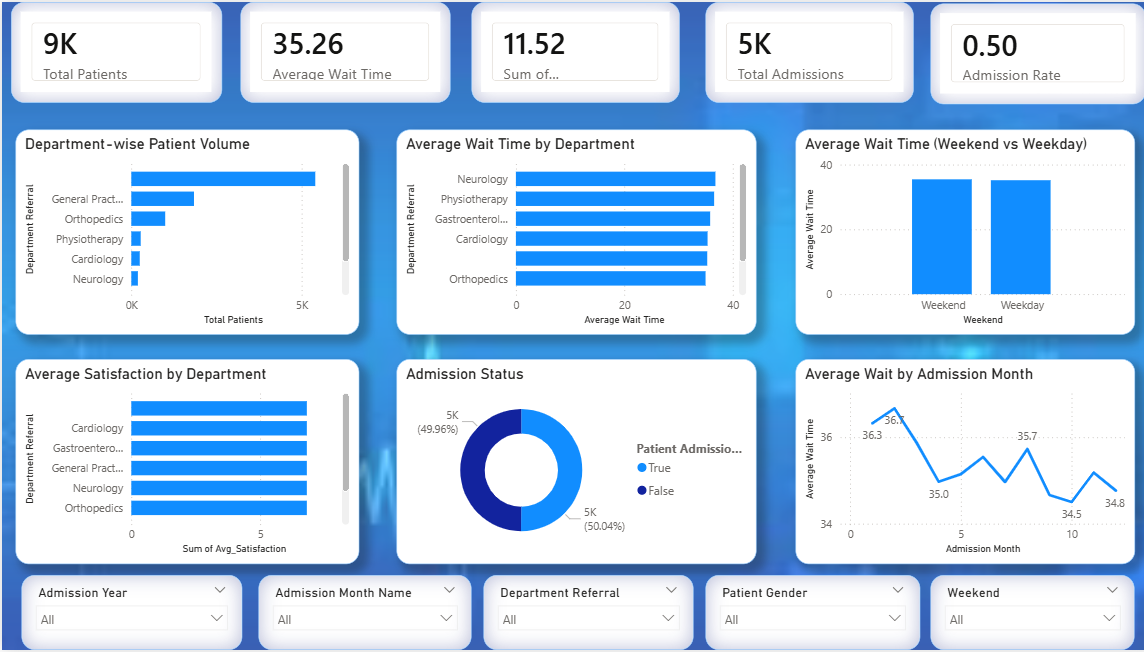

The dashboard page shown, as its layout file describes it:
{"tool":"powerbi","page":{"name":"Hospital Operations Dashboard","canvas":[1280,720],"ordinal":2},"visuals":[{"type":"cardVisual","fields":{"Data":["healthcare_data.Total Patients"]},"box":[9.7,0,234.8,111.7],"z":0},{"type":"cardVisual","fields":{"Data":["healthcare_data.Average Wait Time"]},"box":[265.6,0,233.2,111.7],"z":1000},{"type":"cardVisual","fields":{"Data":["Sum(vw_hospital_dashboard.Avg_Satisfaction)"]},"box":[521.4,0,231.5,111.7],"z":2000},{"type":"cardVisual","fields":{"Data":["healthcare_data.Total Admissions"]},"box":[782.1,0,231.5,111.7],"z":3000},{"type":"cardVisual","fields":{"Data":["healthcare_data.Admission Rate"]},"box":[1031.4,1.6,239.6,111.7],"z":4000},{"type":"clusteredBarChart","title":"Department-wise Patient Volume","fields":{"Category":["healthcare_data.Department Referral"],"Y":["healthcare_data.Total Patients"]},"box":[14.6,142.5,382.1,228.3],"z":5000},{"type":"clusteredBarChart","title":"Average Wait Time by Department","fields":{"Category":["healthcare_data.Department Referral"],"Y":["healthcare_data.Average Wait Time"]},"box":[438.8,142.5,399.9,228.3],"z":6000},{"type":"clusteredColumnChart","title":"Average Wait Time (Weekend vs Weekday)","fields":{"Category":["healthcare_data.Weekend"],"Y":["healthcare_data.Average Wait Time"]},"box":[880.9,142.5,377.3,228.3],"z":7000},{"type":"clusteredBarChart","title":"Average Satisfaction by Department","fields":{"Category":["healthcare_data.Department Referral"],"Y":["Sum(vw_age_group_summary.Avg_Satisfaction)"]},"box":[14.6,396.7,382.1,228.3],"z":8000},{"type":"donutChart","title":"Admission Status","fields":{"Y":["healthcare_data.Total Patients"],"Category":["healthcare_data.Patient Admission Flag"]},"box":[438.8,396.7,399.9,228.3],"z":9000},{"type":"lineChart","fields":{"Y":["healthcare_data.Average Wait Time"],"Category":["healthcare_data.Admission Month"]},"box":[880.9,396.7,377.3,228.3],"z":10000},{"type":"slicer","fields":{"Values":["healthcare_data.Admission Year"]},"box":[21.7,636.7,245,83.3],"z":11000},{"type":"slicer","fields":{"Values":["healthcare_data.Admission Month Name"]},"box":[285,636.7,236.7,83.3],"z":12000},{"type":"slicer","fields":{"Values":["healthcare_data.Department Referral"]},"box":[535,636.7,233.3,83.3],"z":13000},{"type":"slicer","fields":{"Values":["healthcare_data.Patient Gender"]},"box":[781.7,636.7,238.3,83.3],"z":14000},{"type":"slicer","fields":{"Values":["healthcare_data.Weekend"]},"box":[1031.7,636.7,226.7,83.3],"z":15000}]}

Visuals, with their boxes in screenshot pixels (x1, y1, x2, y2), scaled from the page's 1280x720 canvas onto the 1144x652 screenshot:
cardVisual - healthcare_data.Total Patients: crop(9, 0, 219, 101)
cardVisual - healthcare_data.Average Wait Time: crop(237, 0, 446, 101)
cardVisual - Sum(vw_hospital_dashboard.Avg_Satisfaction): crop(466, 0, 673, 101)
cardVisual - healthcare_data.Total Admissions: crop(699, 0, 906, 101)
cardVisual - healthcare_data.Admission Rate: crop(922, 1, 1136, 103)
"Department-wise Patient Volume" clusteredBarChart: crop(13, 129, 355, 336)
"Average Wait Time by Department" clusteredBarChart: crop(392, 129, 750, 336)
"Average Wait Time (Weekend vs Weekday)" clusteredColumnChart: crop(787, 129, 1125, 336)
"Average Satisfaction by Department" clusteredBarChart: crop(13, 359, 355, 566)
"Admission Status" donutChart: crop(392, 359, 750, 566)
lineChart - healthcare_data.Average Wait Time x healthcare_data.Admission Month: crop(787, 359, 1125, 566)
slicer - healthcare_data.Admission Year: crop(19, 577, 238, 651)
slicer - healthcare_data.Admission Month Name: crop(255, 577, 466, 651)
slicer - healthcare_data.Department Referral: crop(478, 577, 687, 651)
slicer - healthcare_data.Patient Gender: crop(699, 577, 912, 651)
slicer - healthcare_data.Weekend: crop(922, 577, 1125, 651)
